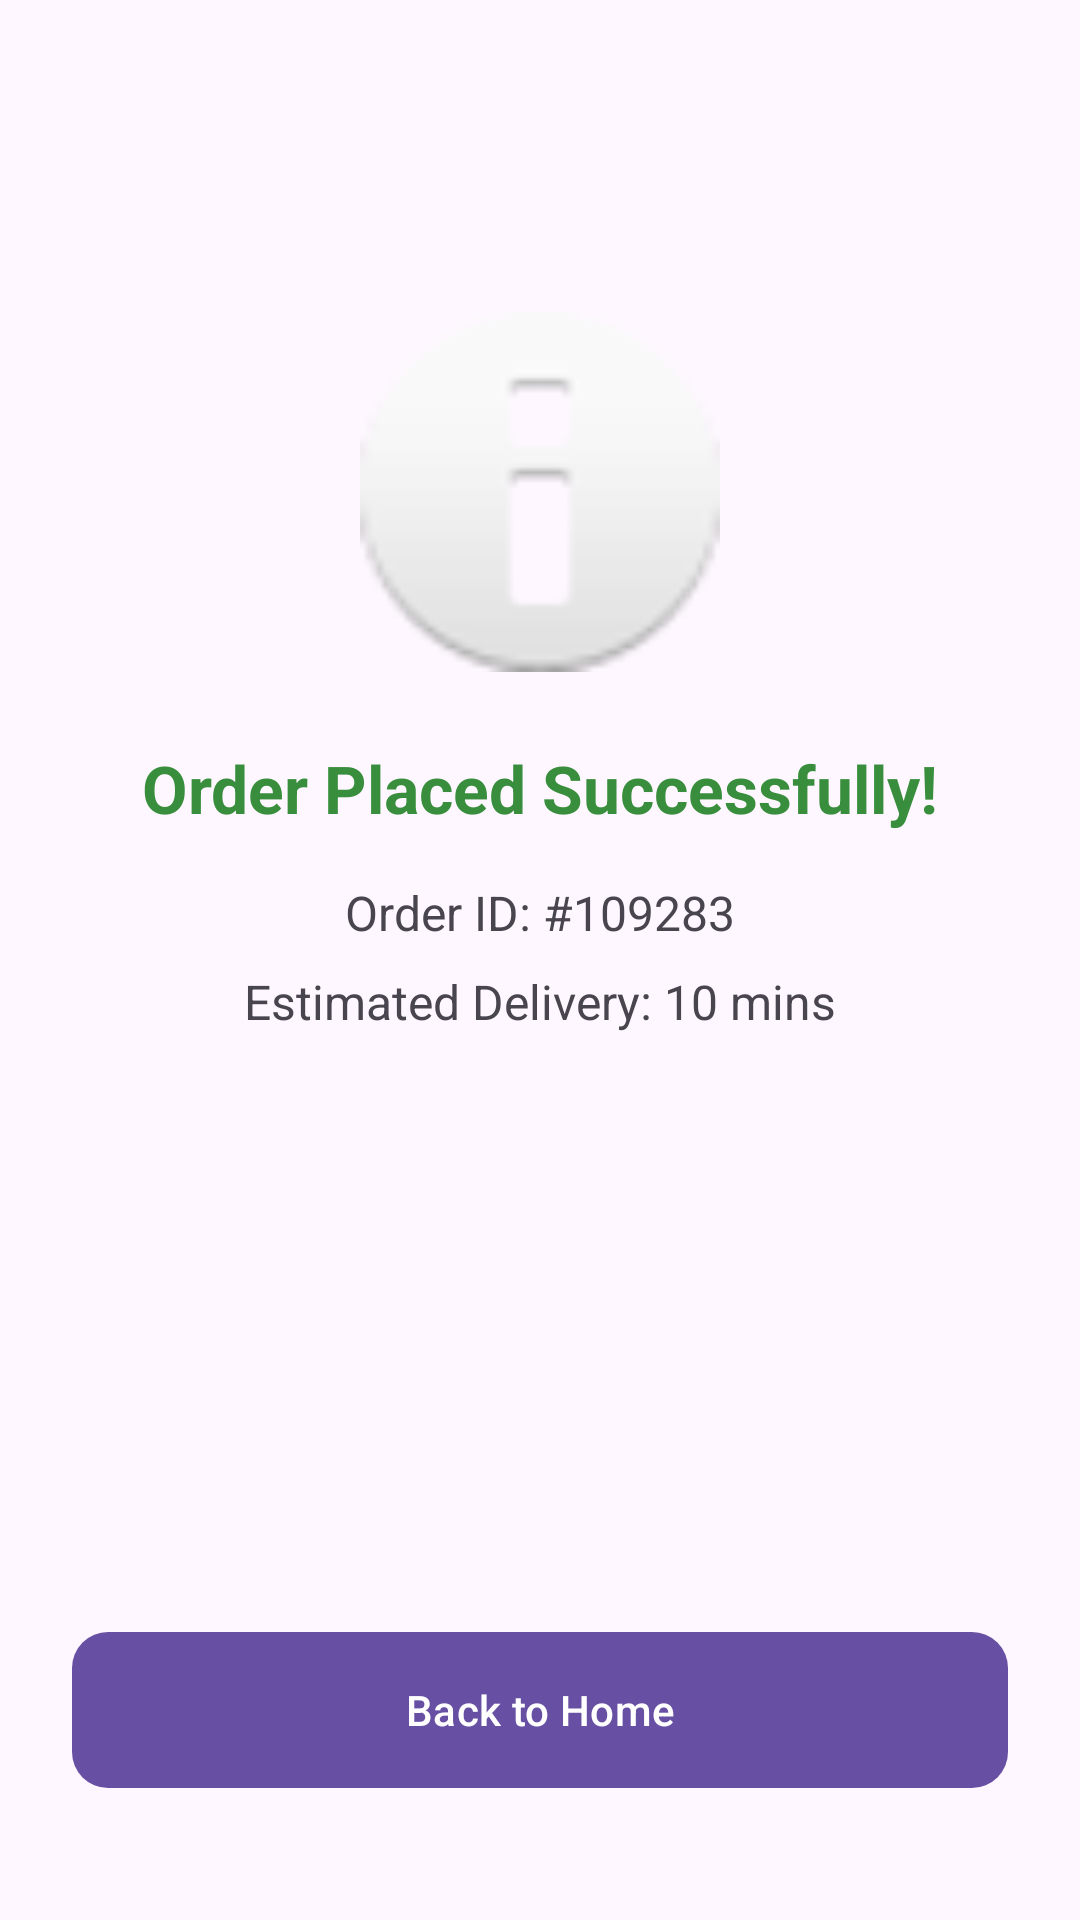

Named icons in this screenshot (1080 x 1920) and their centers, (x=x, y=y):
info: (x=540, y=525)
